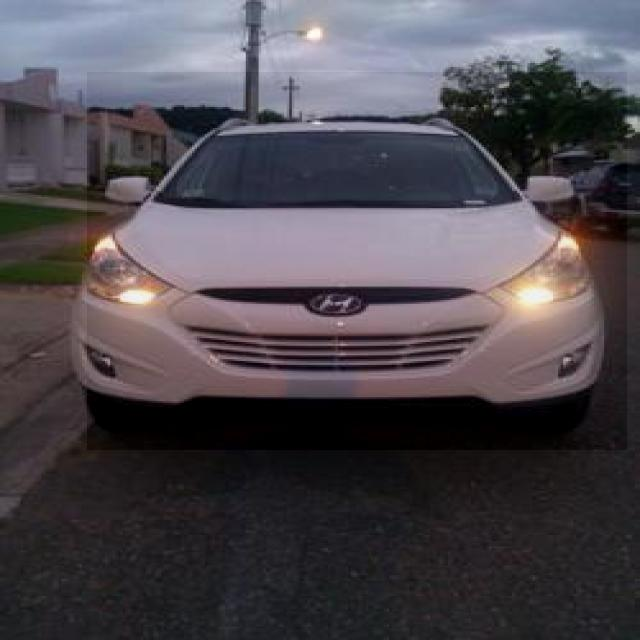Car: (87, 72, 627, 450)
